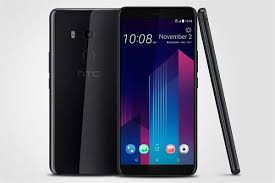htc: (117, 4, 198, 177), (48, 7, 119, 177)
